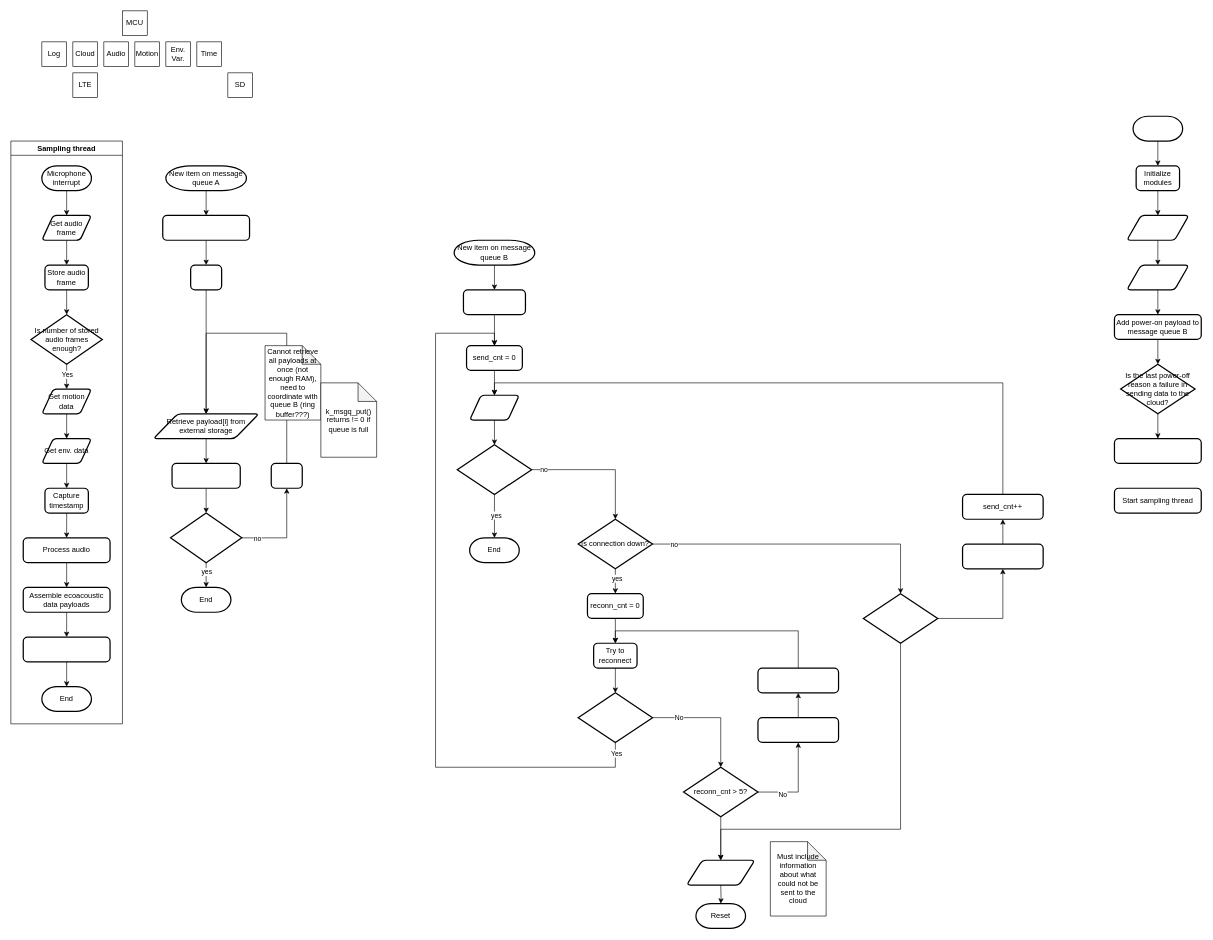
This 1213x940 diagram has some shape labels left out. The shapes that lost their labels are listed below. From the top down, each one's centre as x and y in pixels, then its label:
At point 1157,128: "Power-on".
At point 206,228: "Get payload metadata from message queue A".
At point 1157,228: "Get firmware version from flash".
At point 206,277: "i = 0".
At point 1157,277: "Get last power-off reason from flash".
At point 494,302: "Get payload from message queue B".
At point 494,407: "Send payload to cloud".
At point 494,469: "Has the payload been sent successfully?".
At point 1158,451: "Add payloads that could not be sent the the cloud to message queue B".
At point 206,476: "Add payload[i] to message queue B".
At point 286,476: "i++".
At point 206,537: "i >= number of payloads in ecoacoustic payload set?".
At point 1002,556: "Wait 3^send_cnt seconds".
At point 900,618: "send_cnt > 5?".
At point 66,649: "Add ecoacoustic data payloads metadata to message queue A".
At point 798,680: "reconn_cnt++".
At point 615,717: "Reconnect success?".
At point 798,730: "Wait 3^reconn_cnt seconds".
At point 720,872: "Store failure information to flash".
